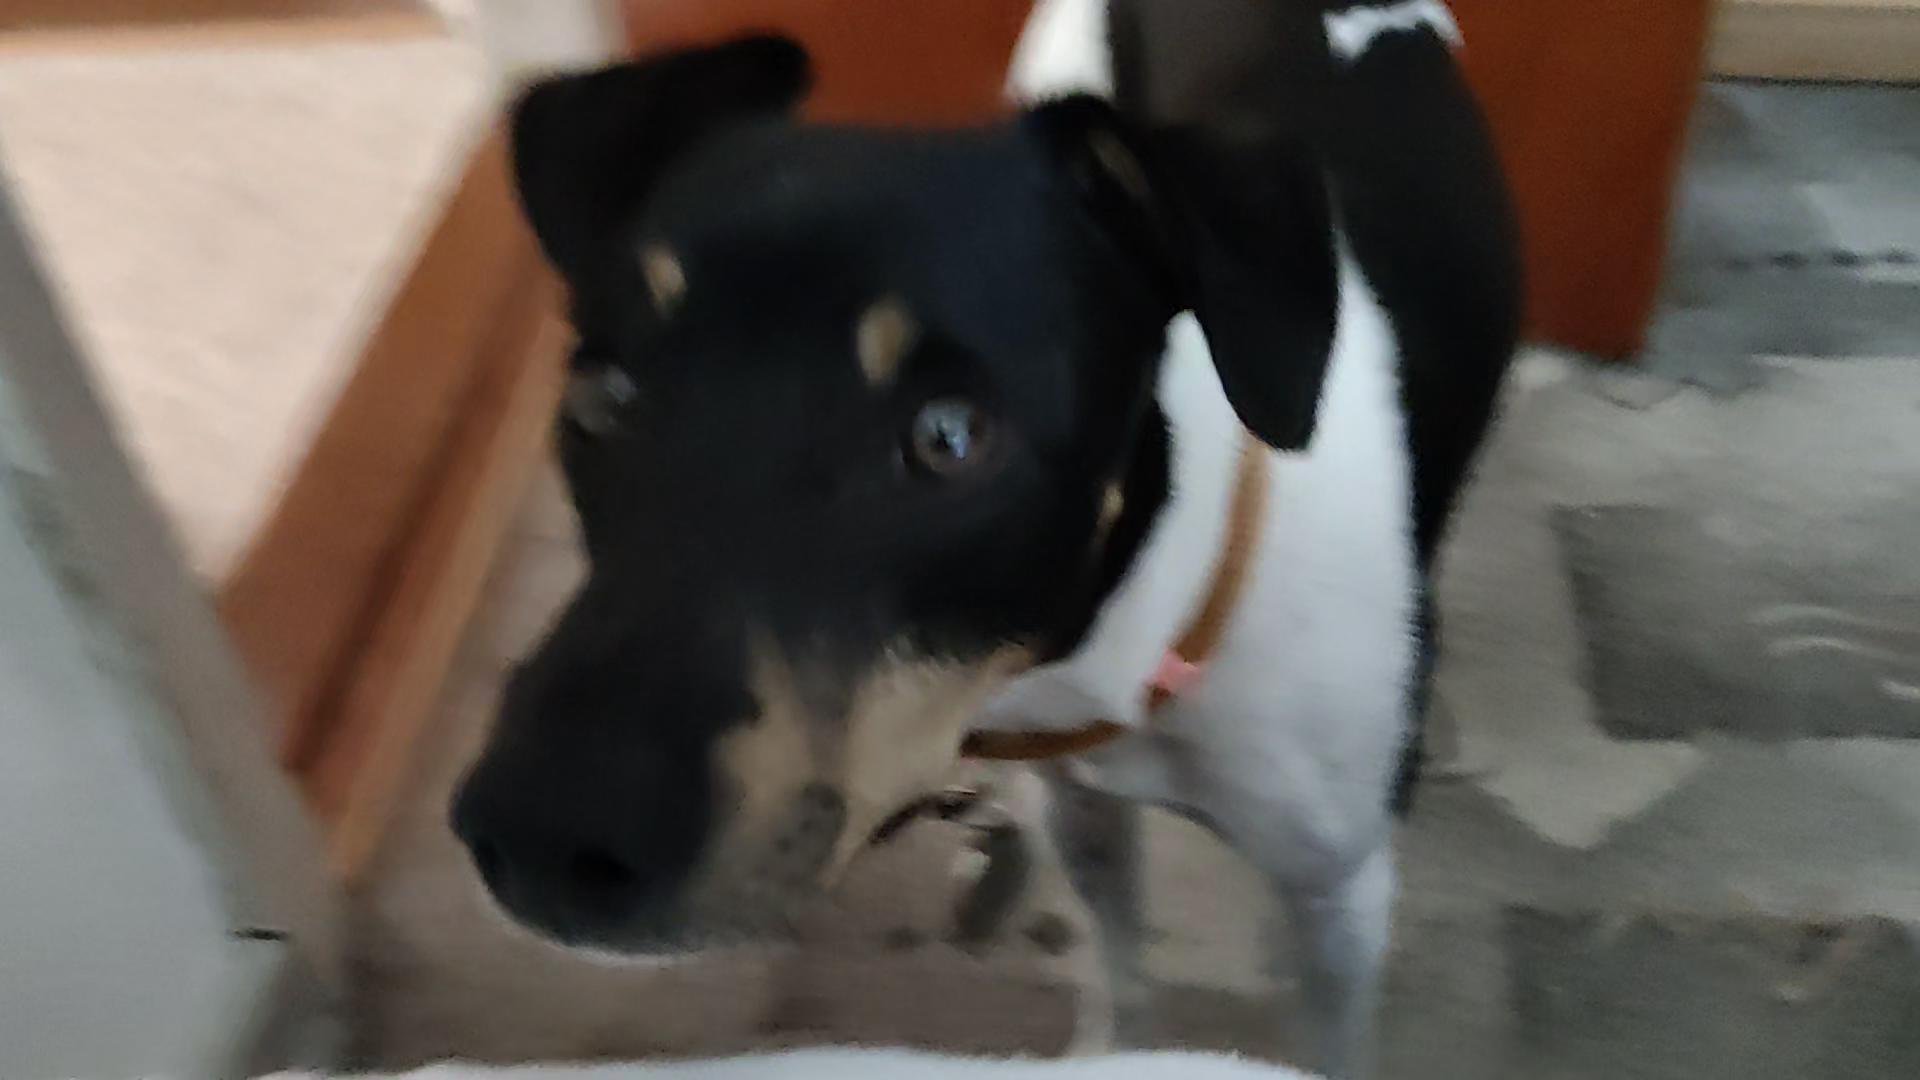Dog: (440, 0, 1544, 1079)
